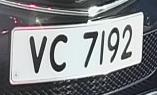1: (99, 25, 107, 68)
2: (120, 20, 135, 64)
7: (80, 27, 99, 72)
9: (106, 23, 120, 67)
C: (48, 31, 71, 76)
V: (26, 32, 50, 76)
